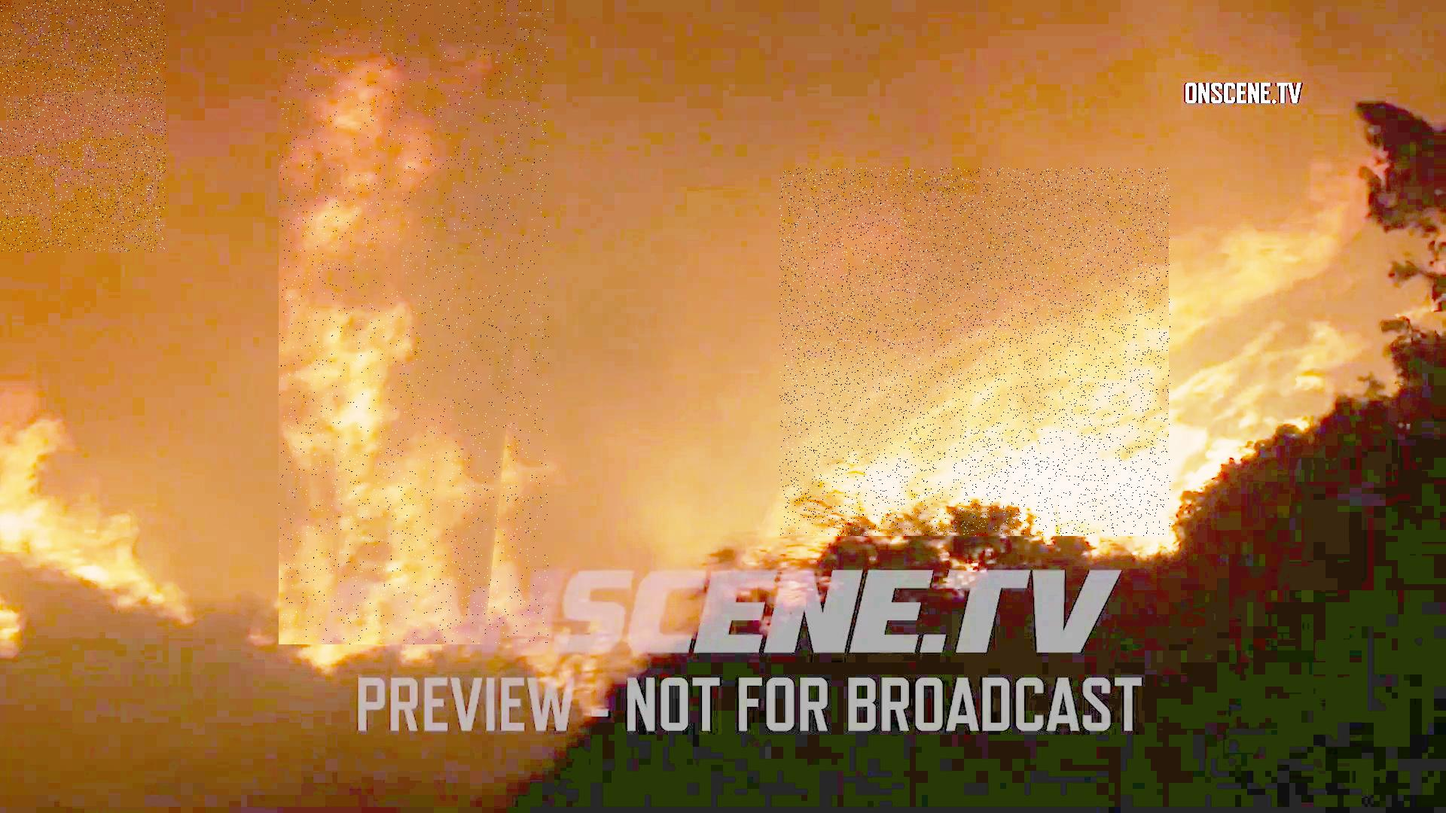fire: (279, 0, 549, 645), (780, 168, 1171, 536)
smoke: (0, 0, 166, 252)
